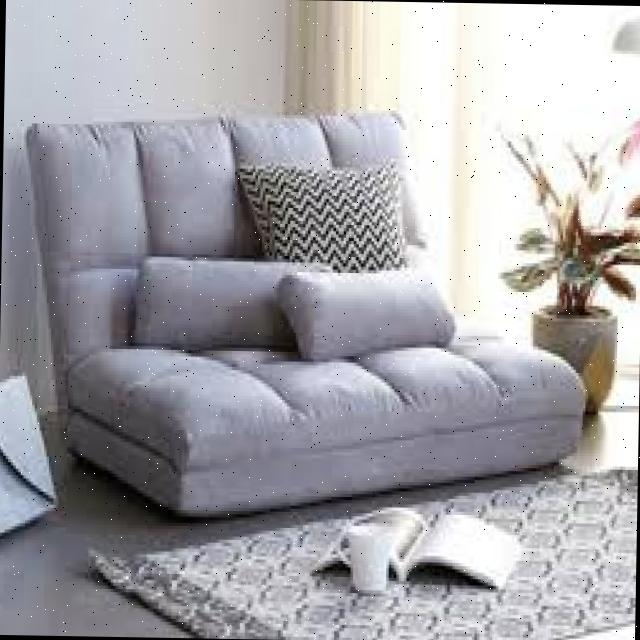Sofa: (1, 77, 605, 554)
